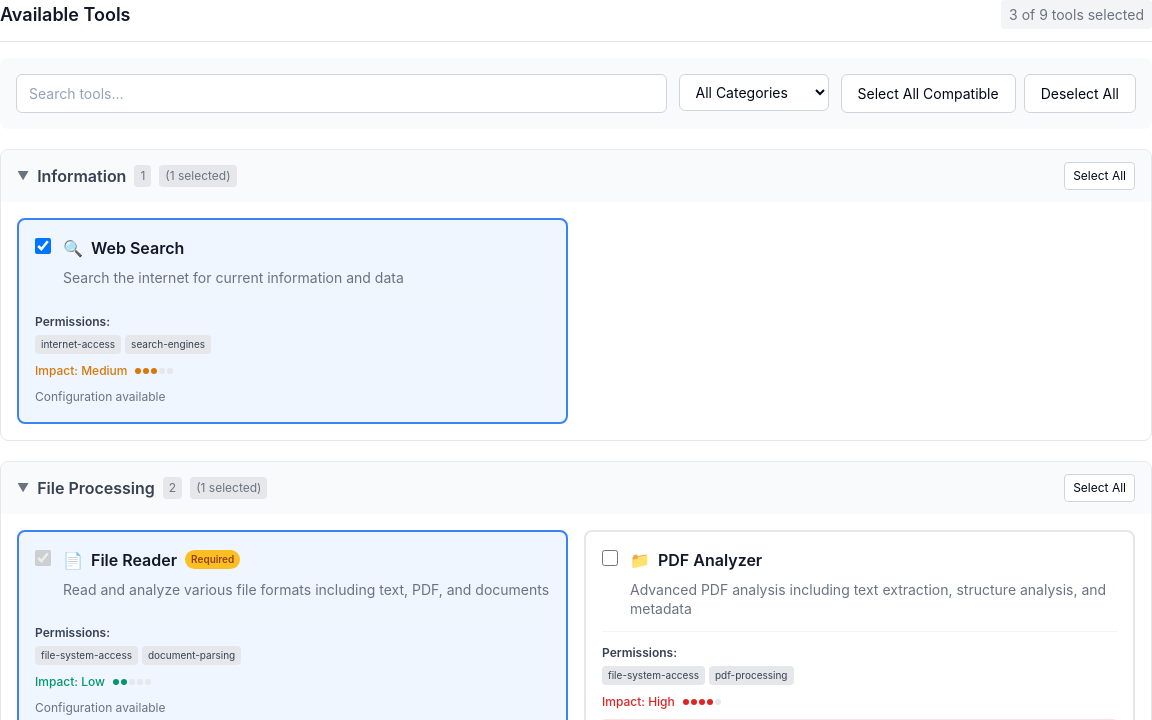
ToolsConfiguration Component › Search and Filter › should show "no results" message when search yields no matches
Type "nonexistent-tool" into the field with test id "tools-search-input" at x=341, y=94, box 16,74 -> 666,113
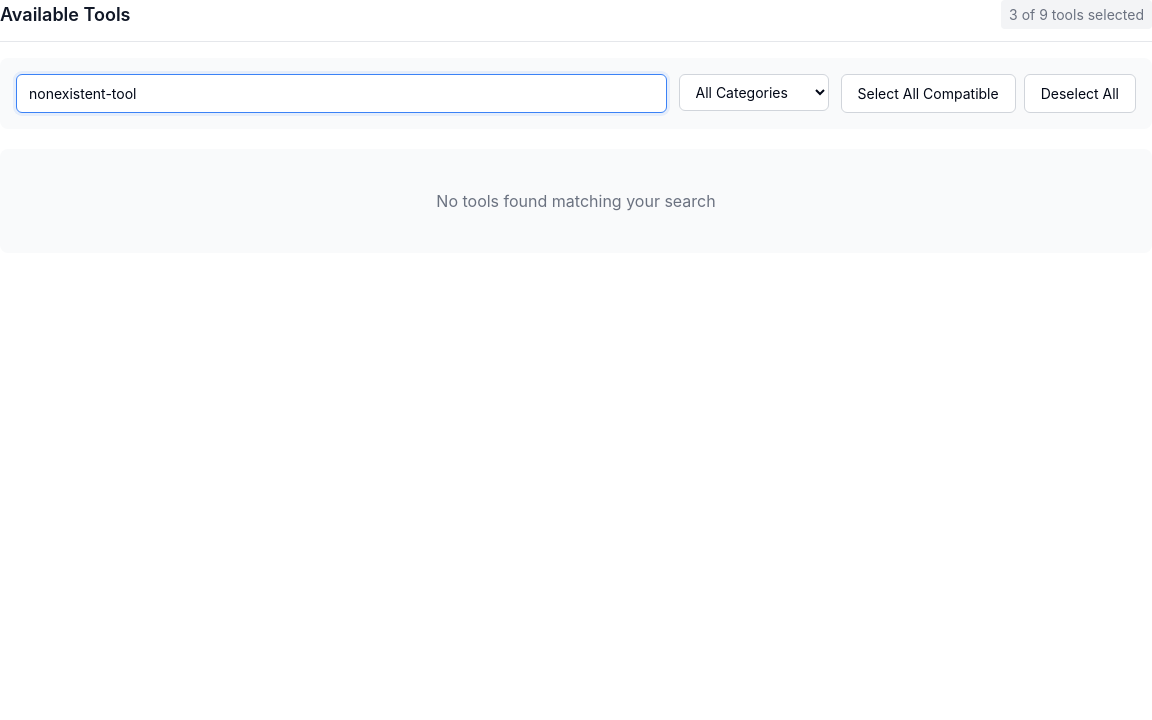
Result: the text "No tools found matching your search" is shown at 0,149 -> 1151,253
